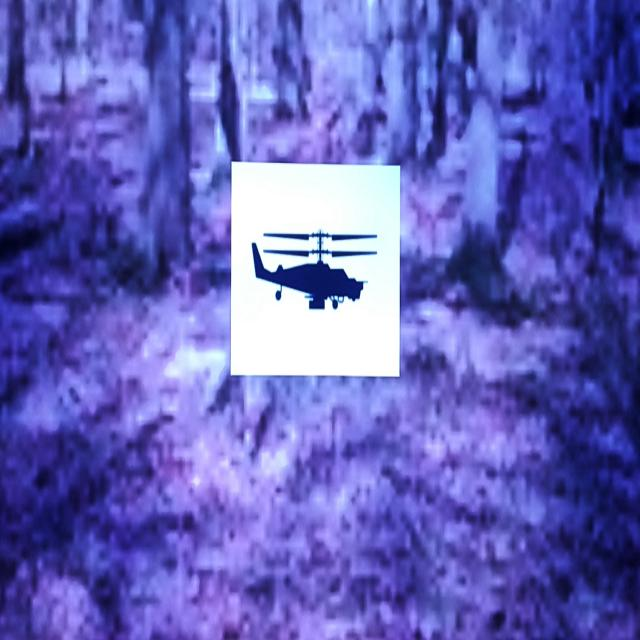Ka-52 Enemy: (252, 230, 376, 309)
